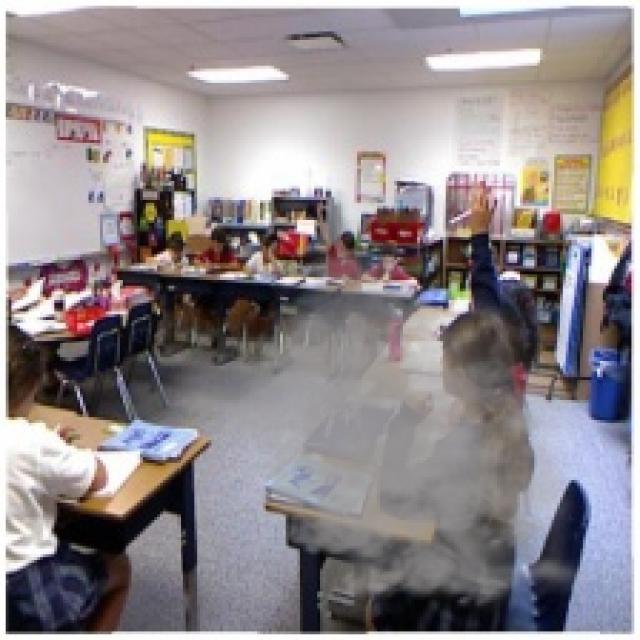smoke: (211, 237, 606, 626)
